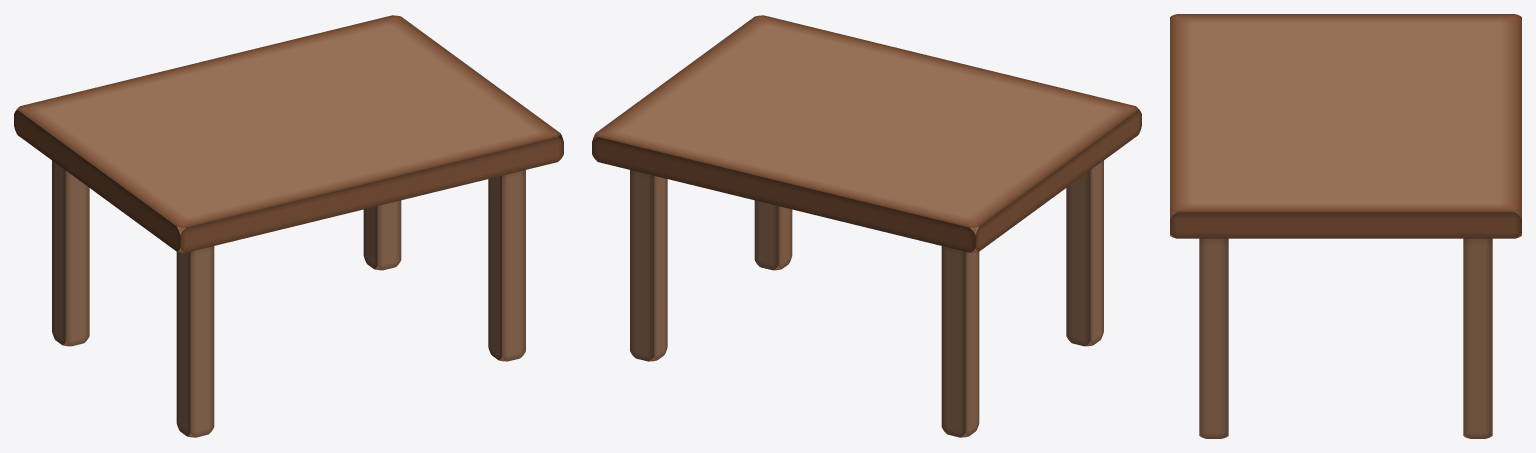
Rendered from table.obj.
3 views of the same model, side by side, from view 1: azimuth 30°, elevation 25°; view 2: azimuth 150°, elevation 25°; view 3: azimuth 270°, elevation 25° (orthographic). The views are drawn at different scales.
Visible parts, largest first — view 1: mesh; view 2: mesh; view 3: mesh.
Part boxes in pixels (bbox=[...]): mesh: bbox=[14, 15, 563, 437]; mesh: bbox=[592, 15, 1141, 437]; mesh: bbox=[1170, 14, 1521, 438].
Size of the model in its own units: 2 by 1.12 by 1.5.
1 material, 1 textured.
